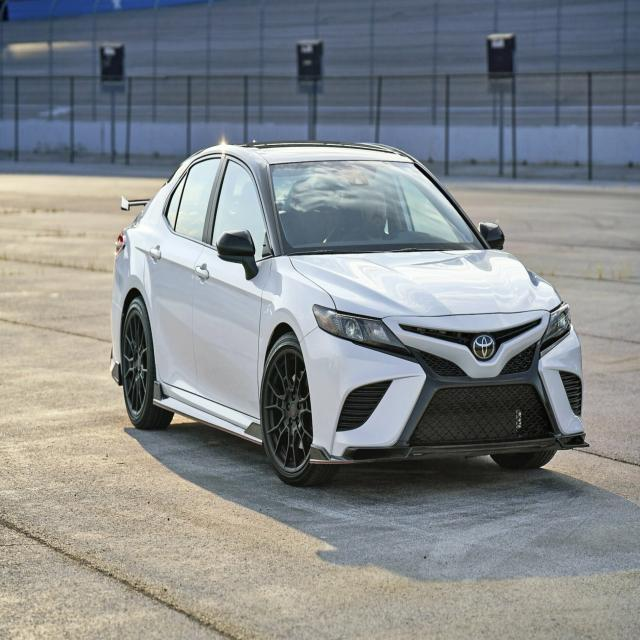pickup: (109, 138, 588, 488)
